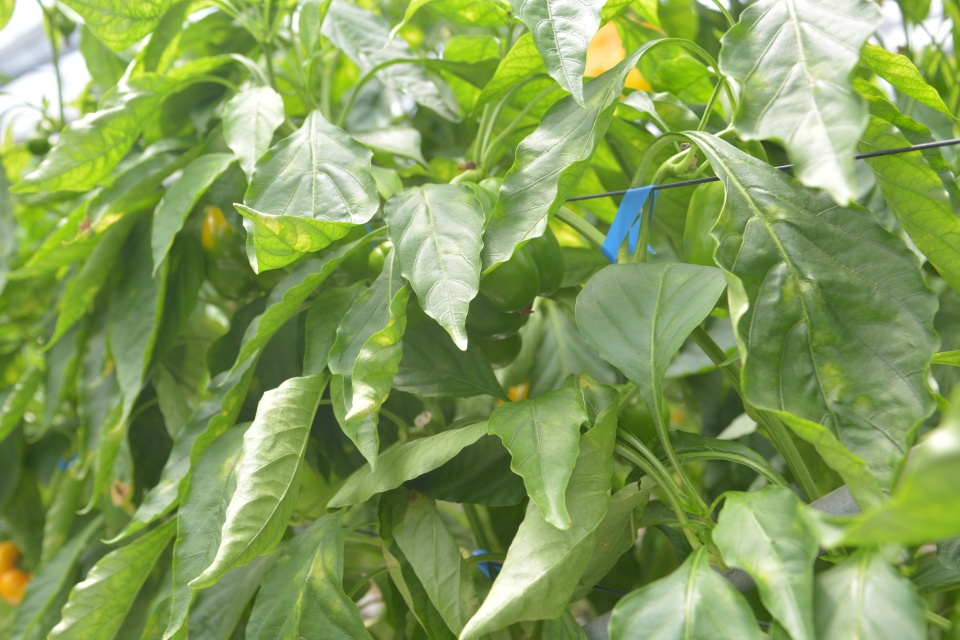fruit: (452, 175, 567, 315), (611, 378, 707, 513), (583, 12, 669, 117), (197, 206, 290, 301), (681, 179, 731, 311), (465, 295, 535, 369), (0, 538, 35, 607)
